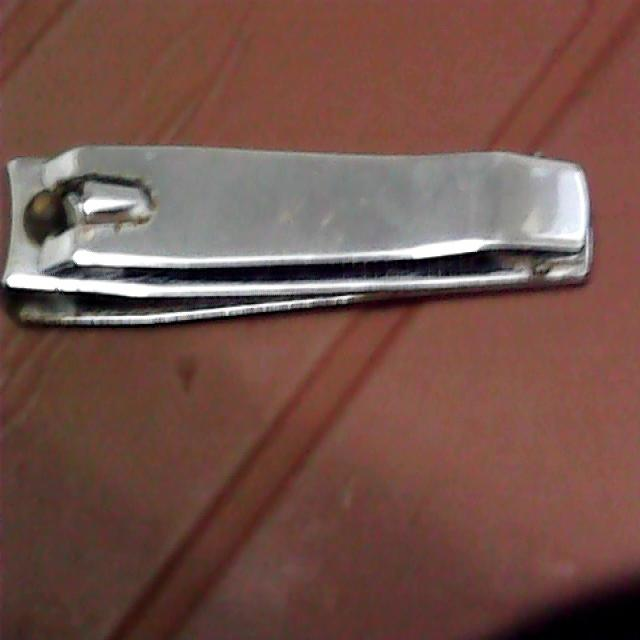Nail_clipper: (1, 145, 593, 325)
